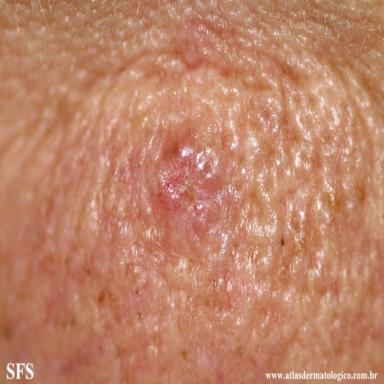basal-cell-carcinoma: (158, 129, 225, 234)
